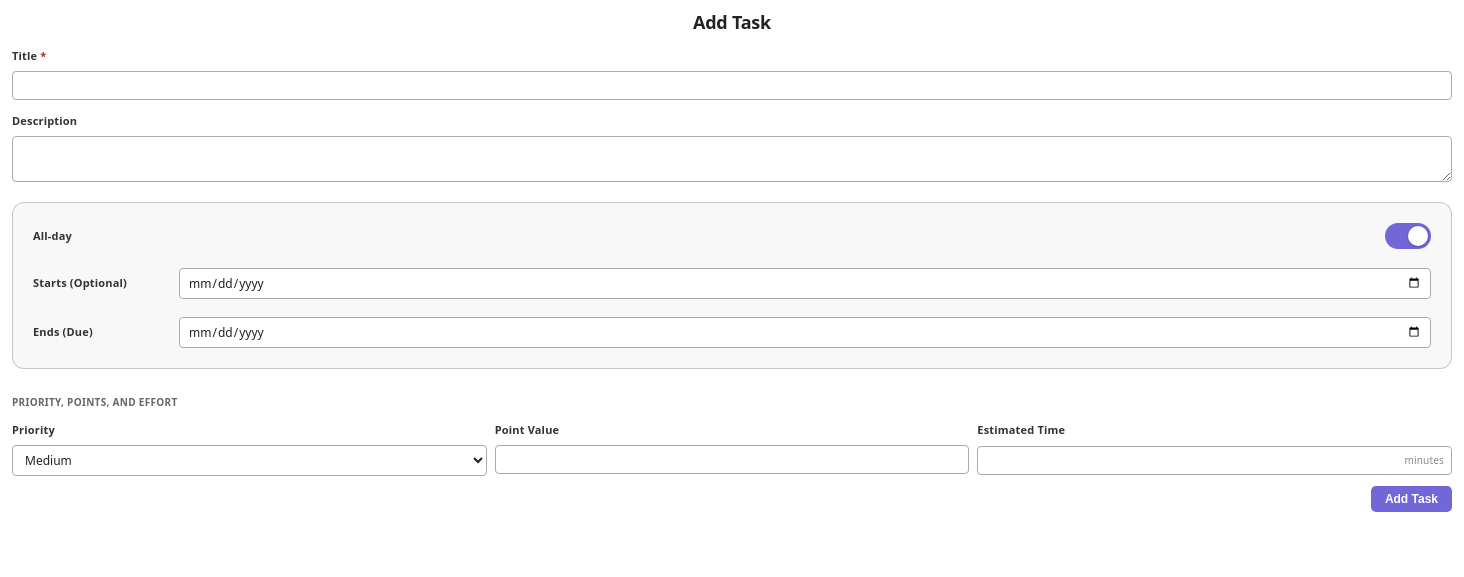
Test: SCRUM-383: interactive Task Form › shows backend validation errors without claiming success
Type "A task" into the field labelled "Title *" at (732, 86), box [12,71,1452,100]
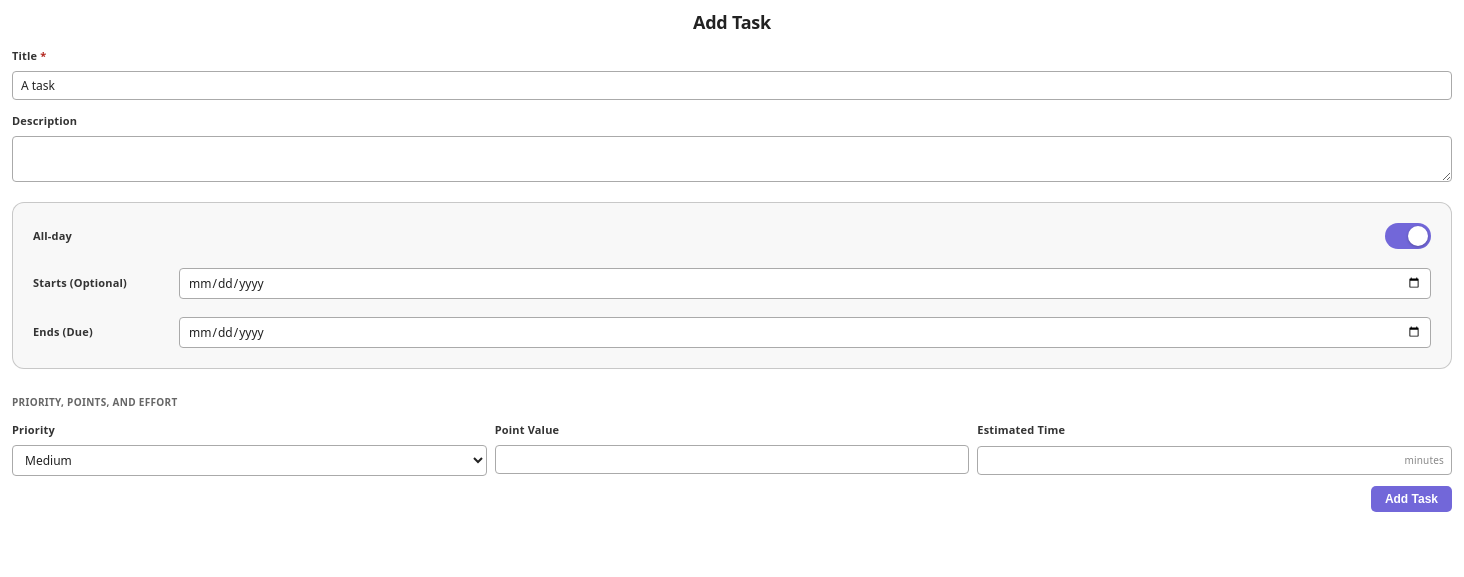
Click the button "Add Task" at (1411, 499), box [1371,486,1452,512]
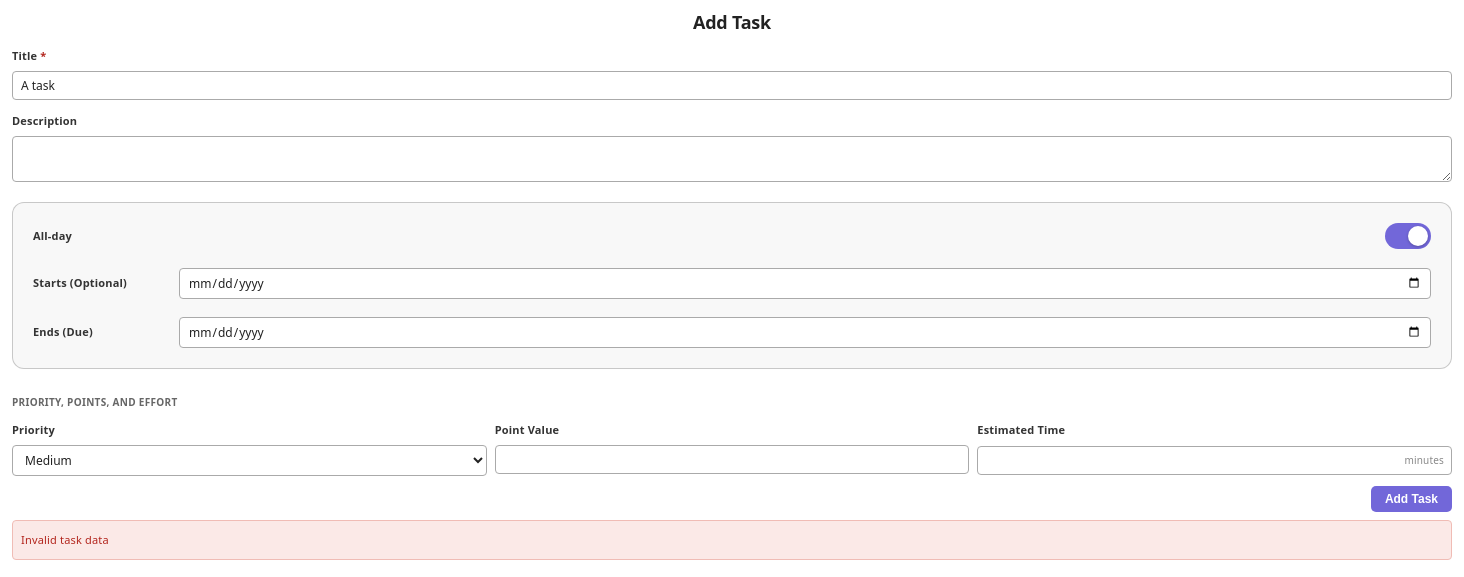
Now the message reads "Invalid task data", box [21,532,109,547]
